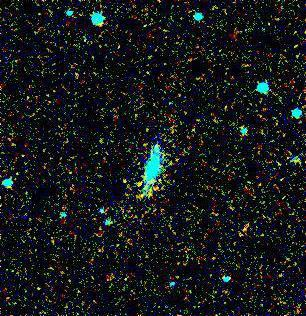star: (122, 168, 152, 198)
